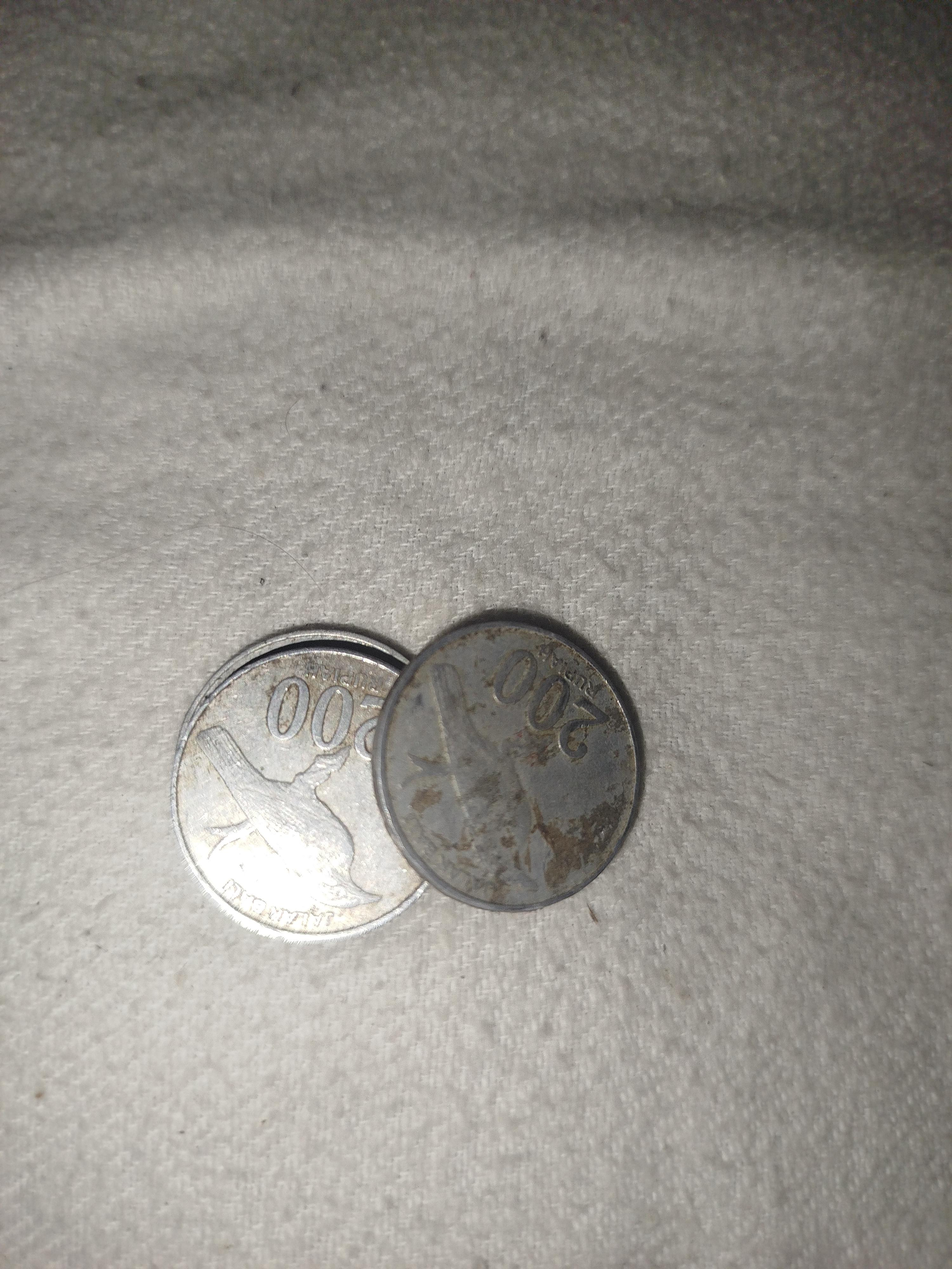coin_200_e2003: (373, 611, 642, 918), (171, 641, 425, 946)
